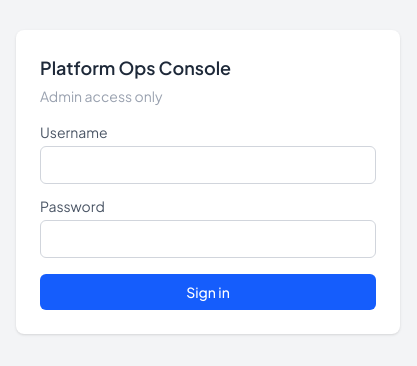
Test: OpsConsole shell › rejects invalid credentials with an error message
Type "admin" into the field labelled "Username".
click(208, 165); type("admin")  # box [40,146,376,184]
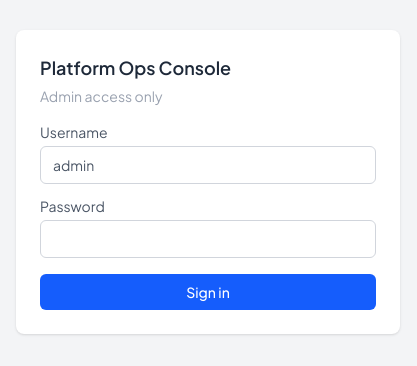
Type "wrong" into the password field labelled "Password".
click(208, 239); type("wrong")  # box [40,220,376,258]
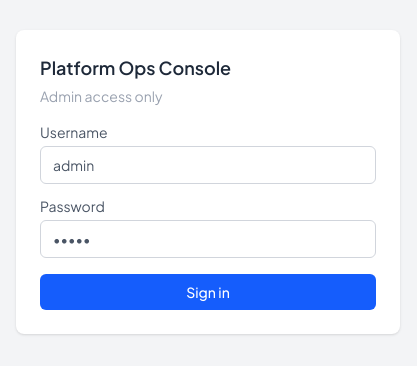
Click the button "Sign in".
click(208, 292)  # box [40,274,376,310]
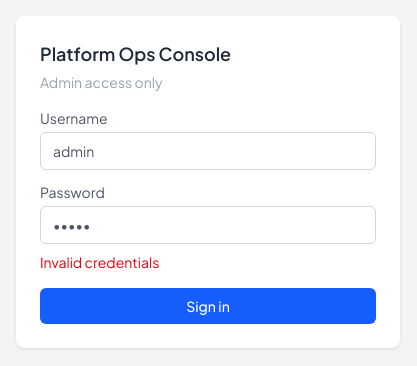
Result: the text "Invalid credentials" is shown at [40,253,159,271]
